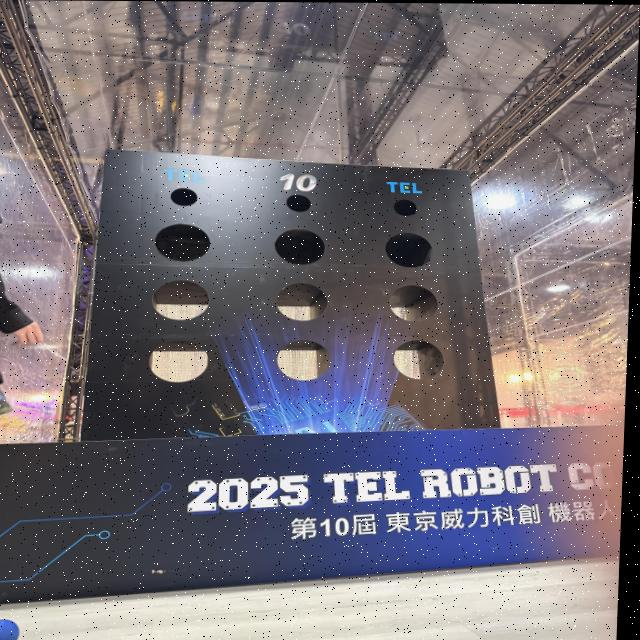hole: (149, 338, 210, 382), (152, 280, 211, 320), (276, 339, 331, 381), (155, 224, 212, 261), (393, 340, 444, 380), (276, 282, 329, 319), (388, 284, 439, 322), (274, 229, 326, 266), (385, 233, 434, 268), (170, 188, 198, 207), (287, 195, 313, 213), (394, 199, 418, 216)
